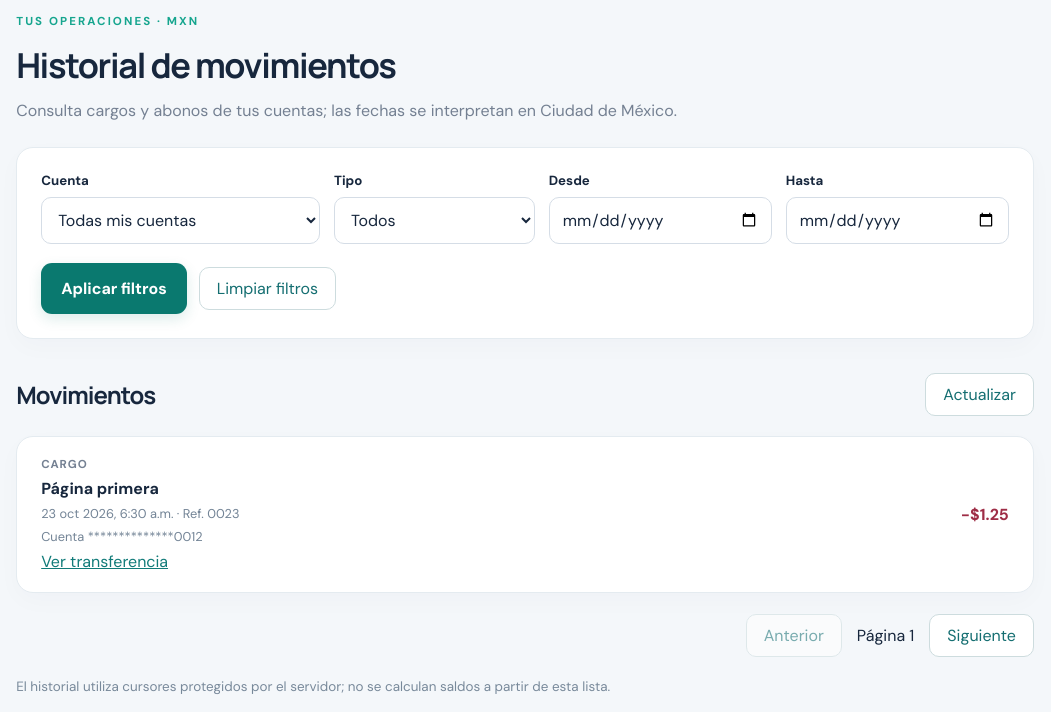
Test: T-24 historial web con filtros y paginación por cursor › navega a siguiente página con el cursor del servidor y regresa sin OFFSET
This screenshot has width=1051, height=712.
Check: the text "Página primera" is shown, box [41, 478, 159, 499]
Step 1. Click the button "Siguiente" → [982, 635], box [929, 614, 1034, 657]
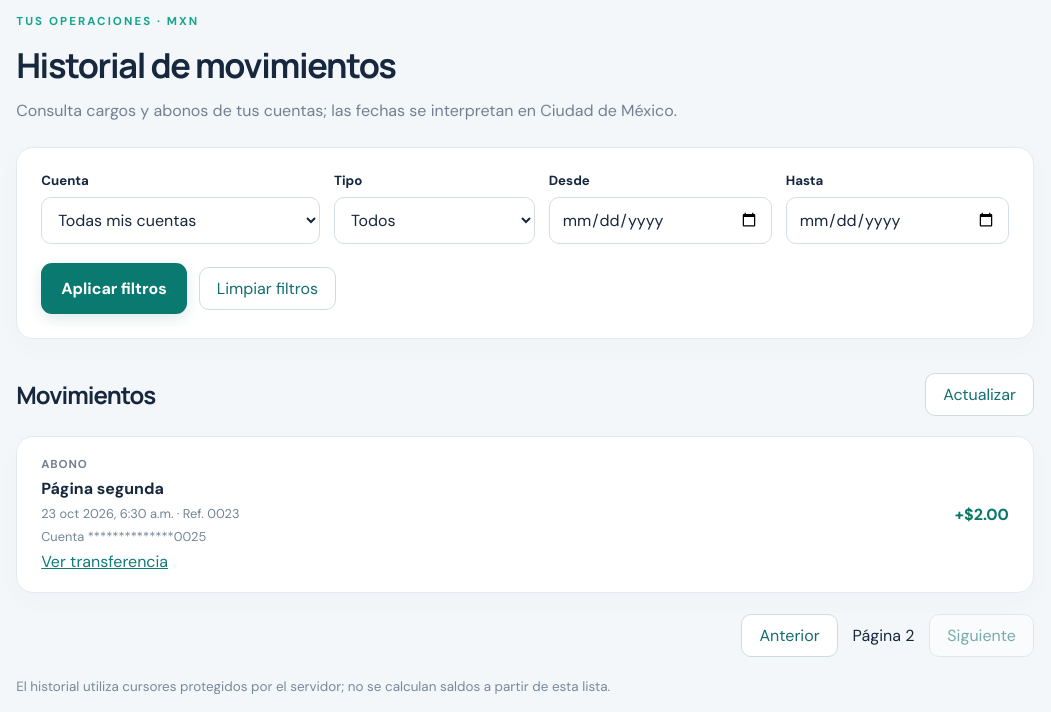
Check: the text "Página segunda" is shown, box [41, 478, 164, 499]
Check: the button "Siguiente" is disabled, box [929, 614, 1034, 657]
Step 2. Click the button "Anterior" → [790, 635], box [742, 614, 838, 657]
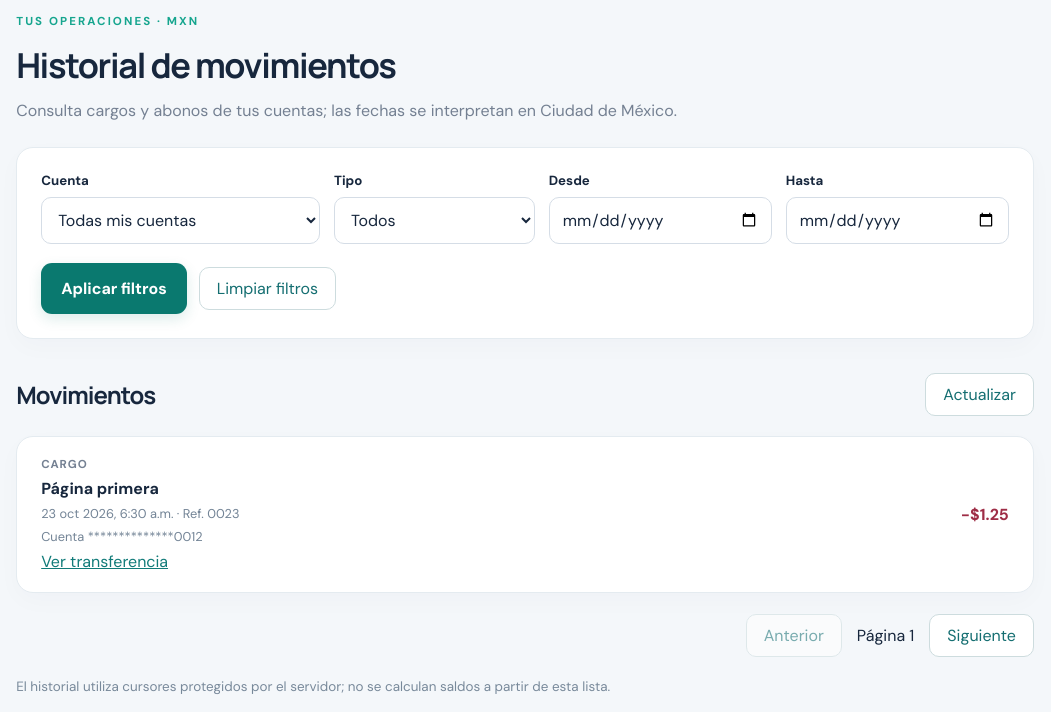
Check: the text "Página primera" is shown, box [41, 478, 159, 499]
Check: the text "Página 1" is shown, box [857, 625, 914, 646]
